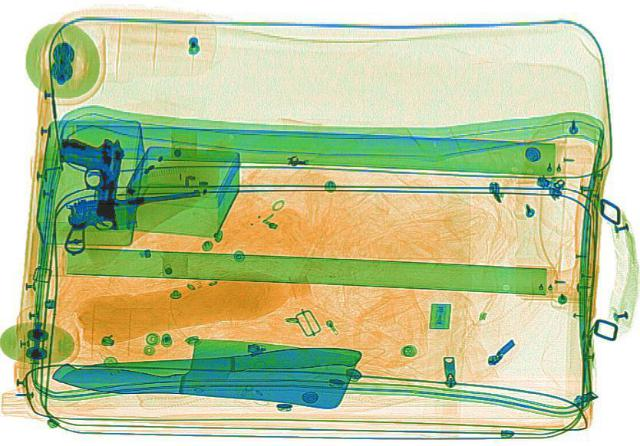Gun: (48, 184, 215, 252), (52, 131, 140, 223)
Knife: (48, 327, 358, 408), (57, 330, 365, 397)
